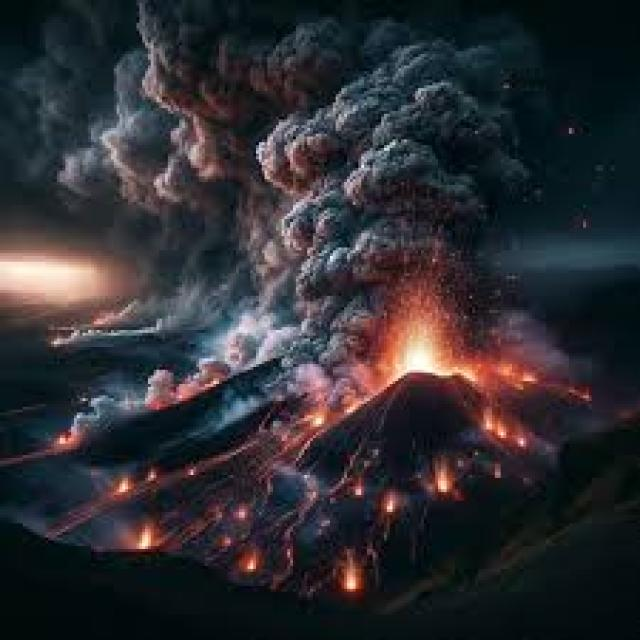explosion: (75, 0, 611, 497)
